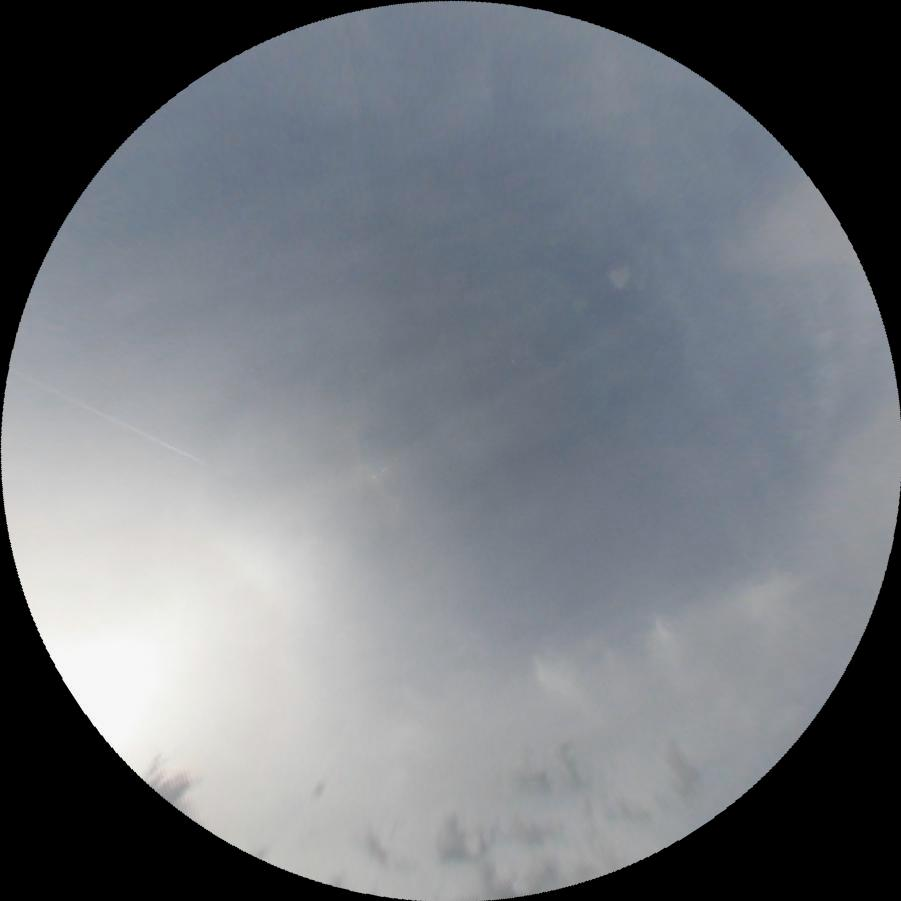contrail young: (7, 368, 206, 466)
sun: (38, 538, 306, 807)
